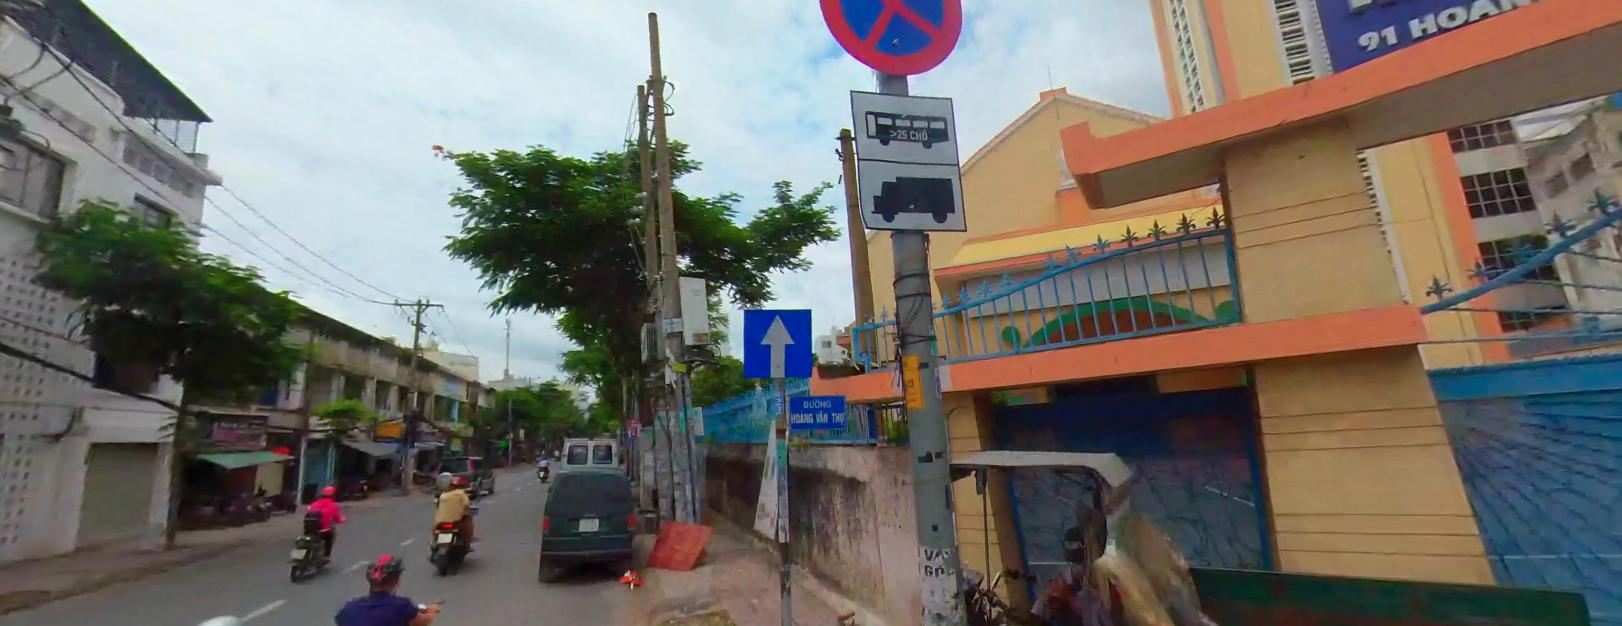Cam dung va do: (817, 0, 962, 76)
